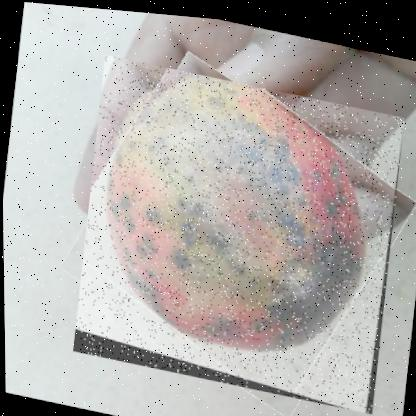pomegranate_rotten: (67, 50, 407, 411)
